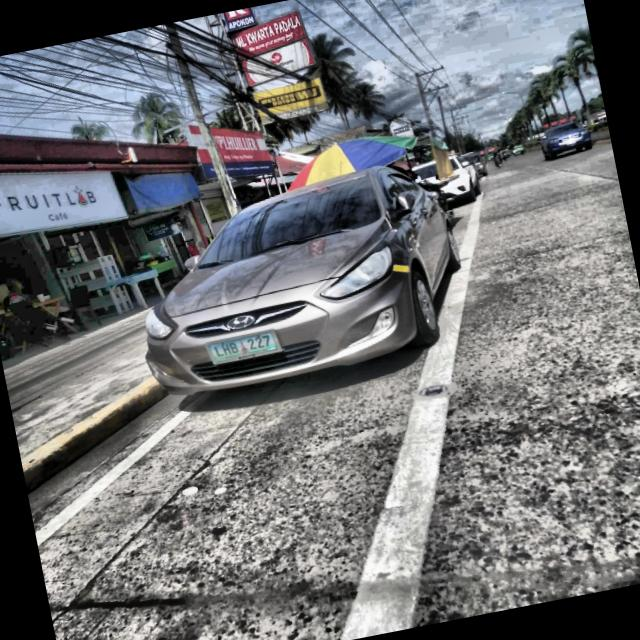license-plate: (204, 328, 283, 366)
